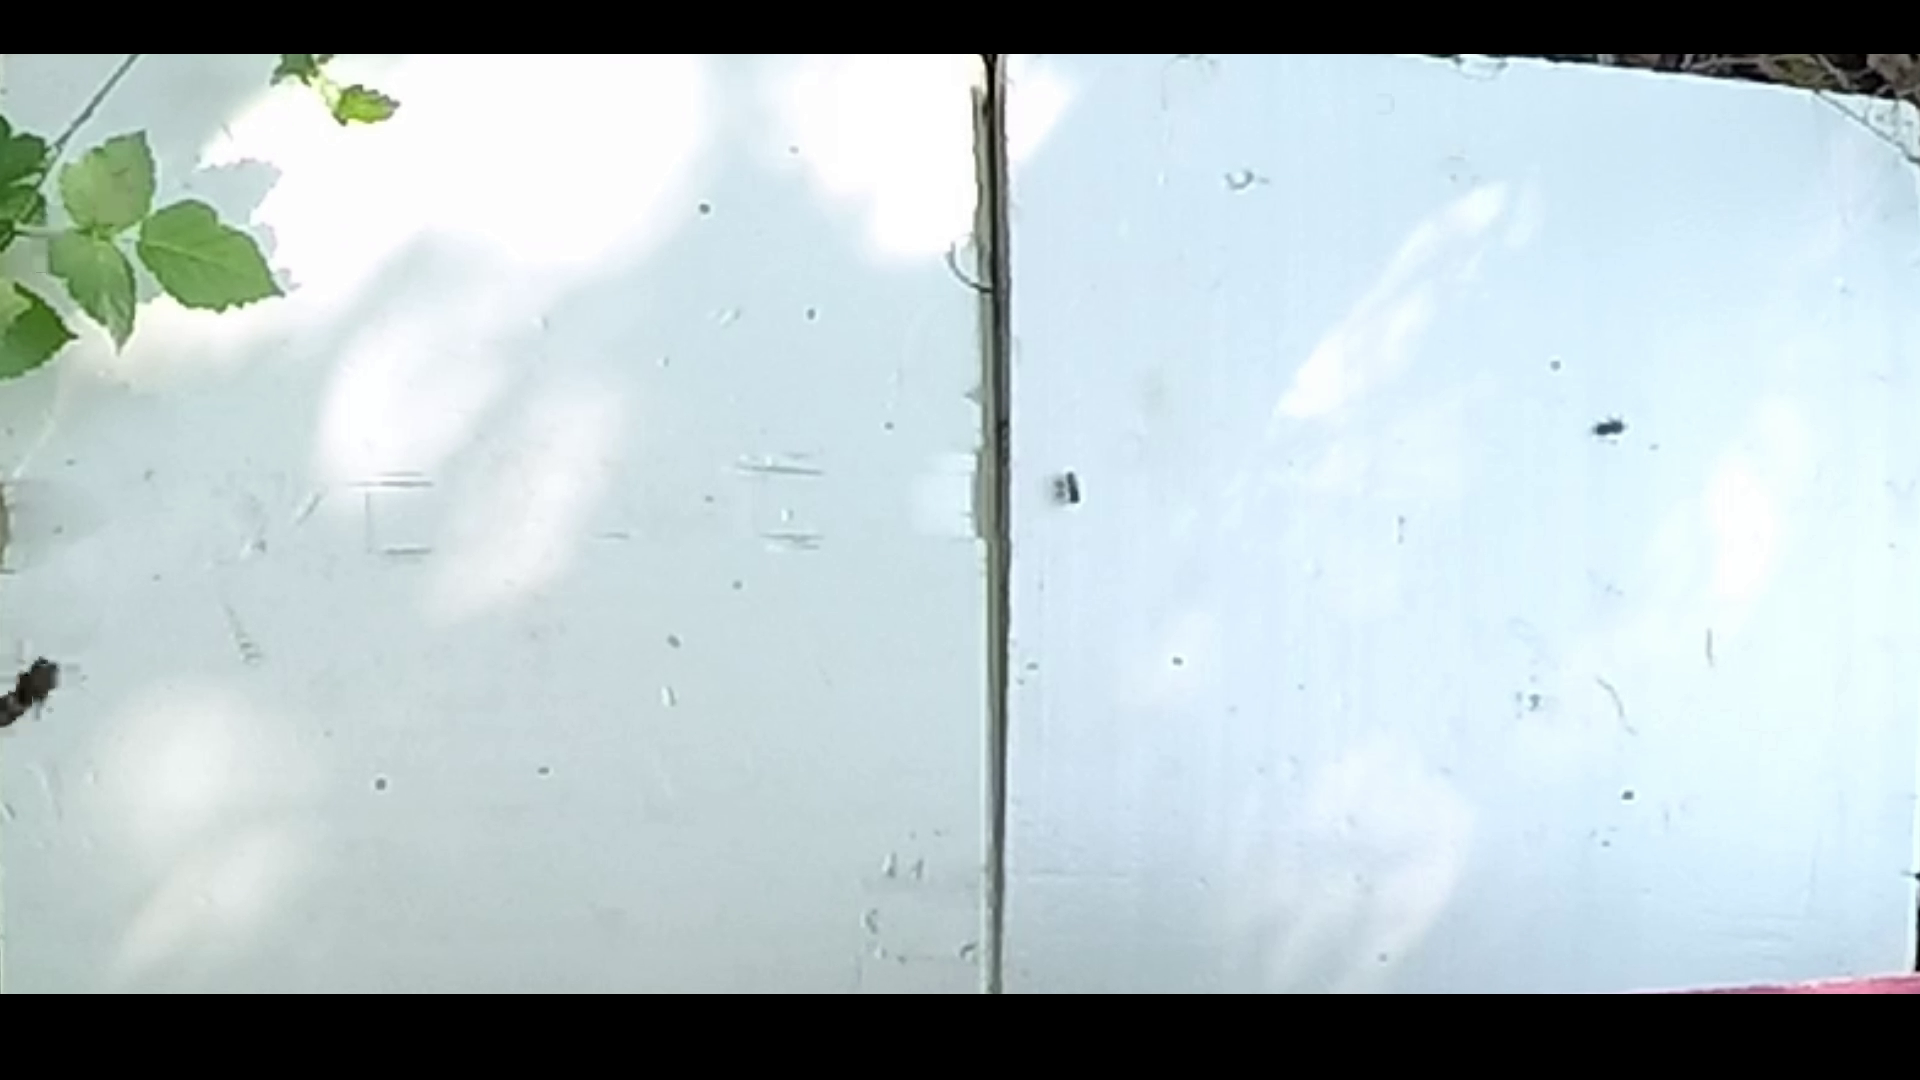Asian_hornets: (0, 621, 91, 757)
